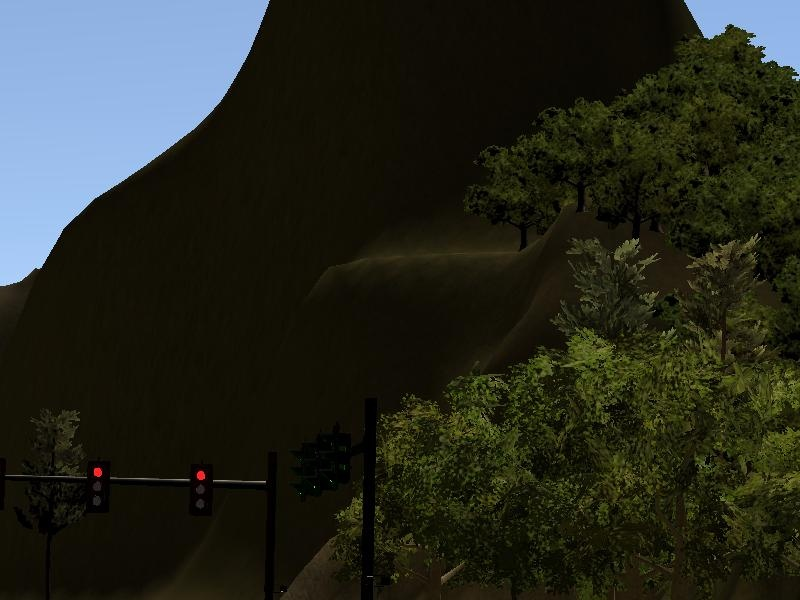RED: (189, 462, 211, 517), (87, 462, 110, 513)
